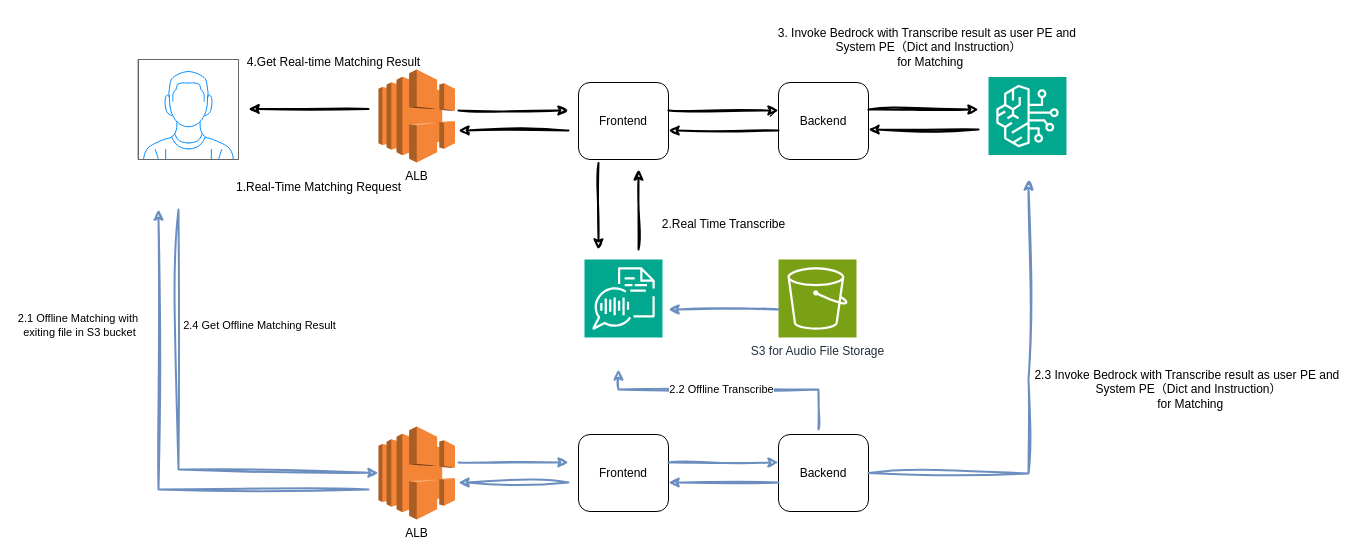
The diagram is 1370 pixels wide and 558 high, and some of its shapes have lost their labels. The shapes that lost their labels are listed below. From the top down, each one's box as (x1, y1, x2, y2) in pixels, then its label:
(138, 58, 238, 160): End User
(988, 76, 1066, 155): Bedrock for LLM
(584, 258, 662, 338): Transcribe
